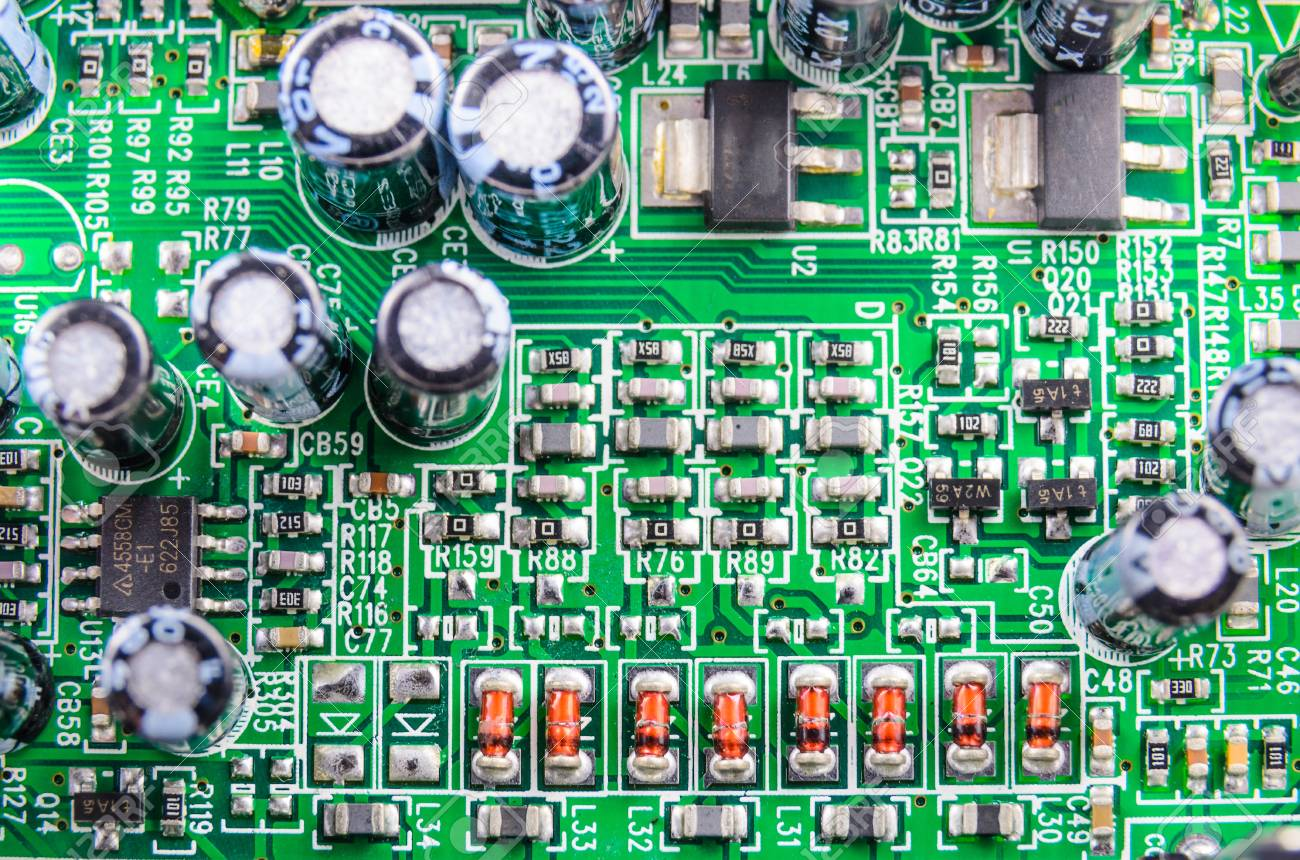capacitor: (447, 26, 634, 273), (1063, 465, 1249, 709), (277, 15, 455, 256), (174, 240, 355, 452), (366, 258, 524, 491), (22, 293, 185, 499), (80, 601, 267, 777), (1193, 331, 1299, 558)
